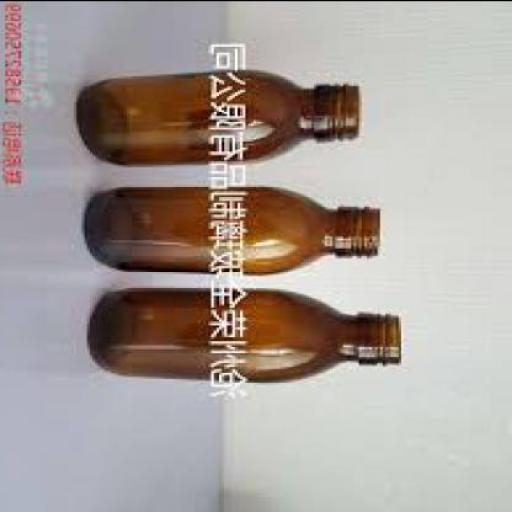glass: (92, 292, 404, 386), (76, 71, 362, 164), (87, 188, 383, 276)
